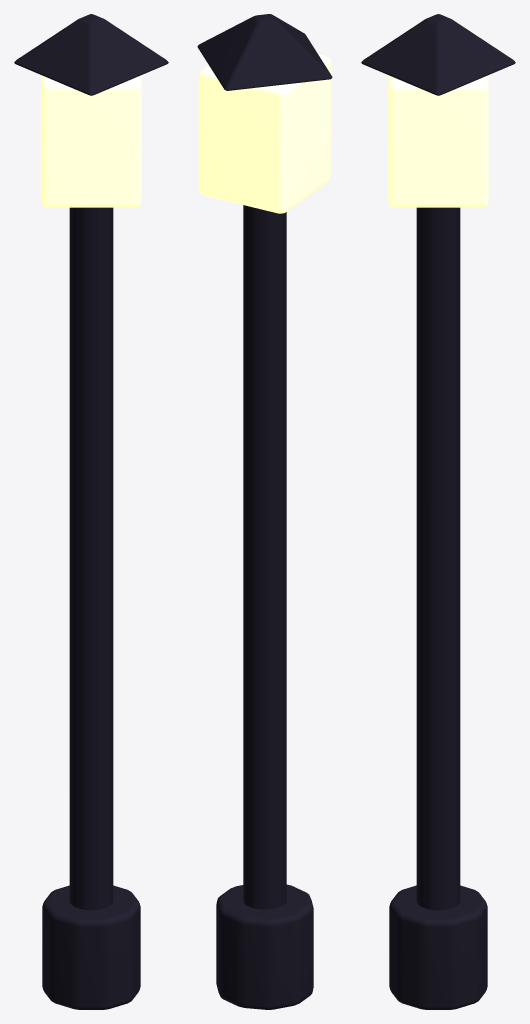
The model's file is toy_street_lamp.glb.
3 views of the same model, side by side, from view 1: azimuth 90°, elevation 25°; view 2: azimuth 150°, elevation 25°; view 3: azimuth 270°, elevation 25° (orthographic).
Visible parts, largest first — view 1: toy_street_lamp; view 2: toy_street_lamp; view 3: toy_street_lamp.
Boxes of the visible parts, x1,y1,x2,y2 form: toy_street_lamp: [14, 14, 168, 1009]; toy_street_lamp: [197, 14, 332, 1009]; toy_street_lamp: [361, 14, 515, 1009].
Bounding box in the file's own units: 1.23 × 8.55 × 1.23.
